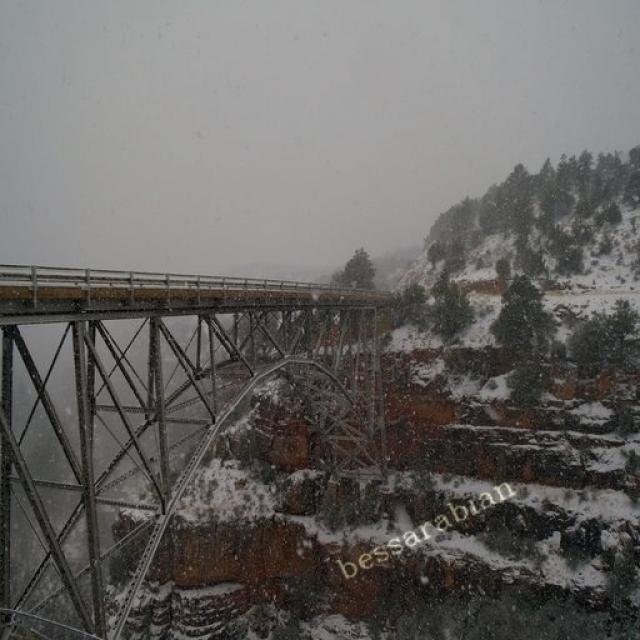watermark: (335, 469, 516, 585)
